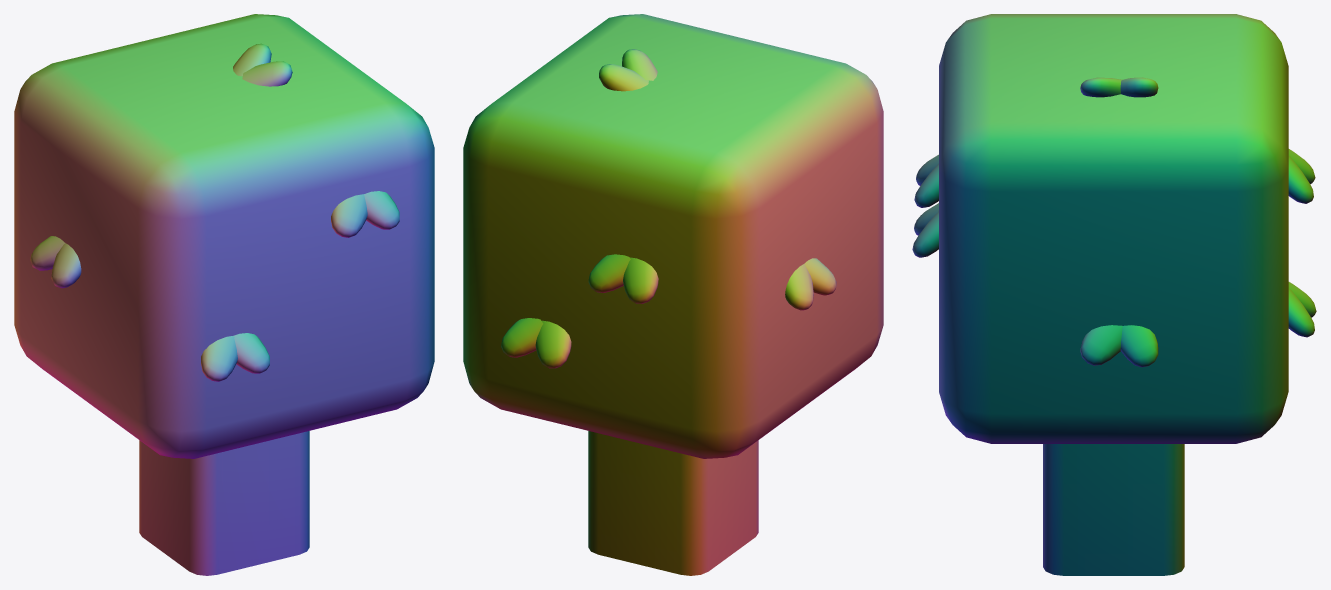
File: Tree_SMNormal_Curv.fbx
The picture shows the model from 3 angles, left to right: view 1: azimuth 30°, elevation 25°; view 2: azimuth 150°, elevation 25°; view 3: azimuth 270°, elevation 25°; orthographic projection. The views are drawn at different scales.
Visible parts, largest first — view 1: attribtransfer2; view 2: attribtransfer2; view 3: attribtransfer2.
Boxes of the visible parts, x1,y1,x2,y2 form: attribtransfer2: [14, 14, 434, 575]; attribtransfer2: [463, 14, 883, 575]; attribtransfer2: [912, 14, 1316, 575].
Size of the model in its own units: 152 by 207 by 154.
